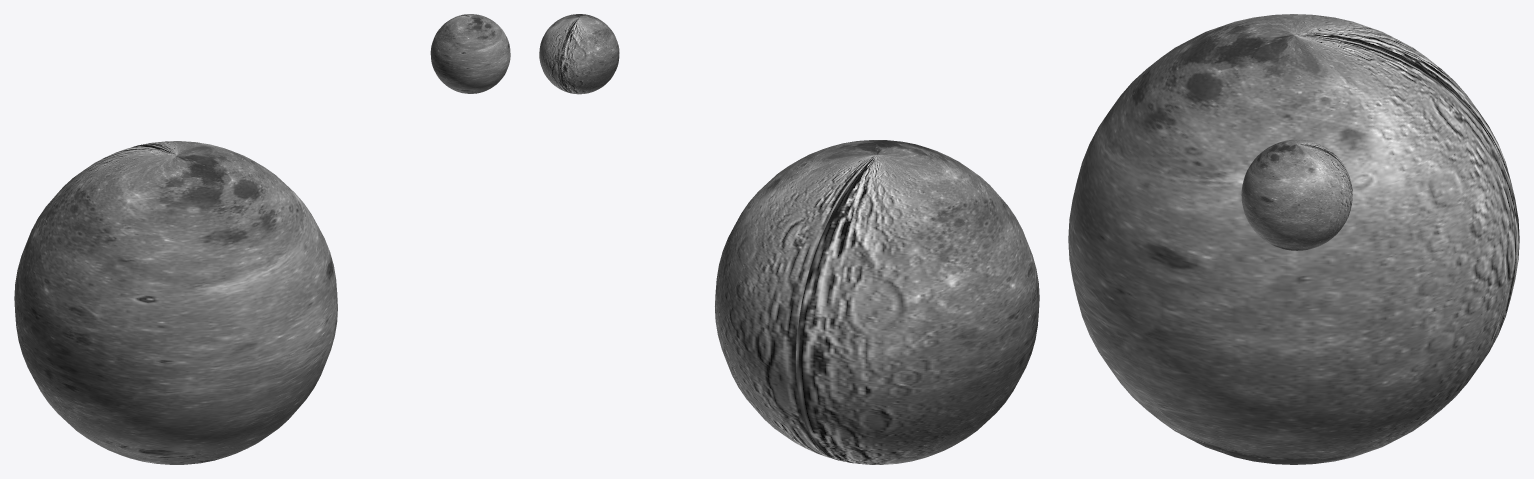
Rendered from moon.obj.
The picture shows the model from 3 angles, left to right: view 1: azimuth 30°, elevation 25°; view 2: azimuth 150°, elevation 25°; view 3: azimuth 270°, elevation 25°; orthographic projection. The views are drawn at different scales.
Visible parts, largest first — view 1: Plane, Plane.001; view 2: Plane, Plane.001; view 3: Plane, Plane.001.
Part boxes in pixels (box(x1,y1,x2,y2)): Plane: box(14, 141, 337, 464); Plane.001: box(430, 14, 510, 93); Plane: box(715, 140, 1039, 464); Plane.001: box(539, 14, 619, 94); Plane: box(1068, 14, 1519, 464); Plane.001: box(1241, 139, 1352, 250).
Size of the model in its own units: 3.35 by 2.44 by 2.
Materials: 1 (1 with a texture image).
